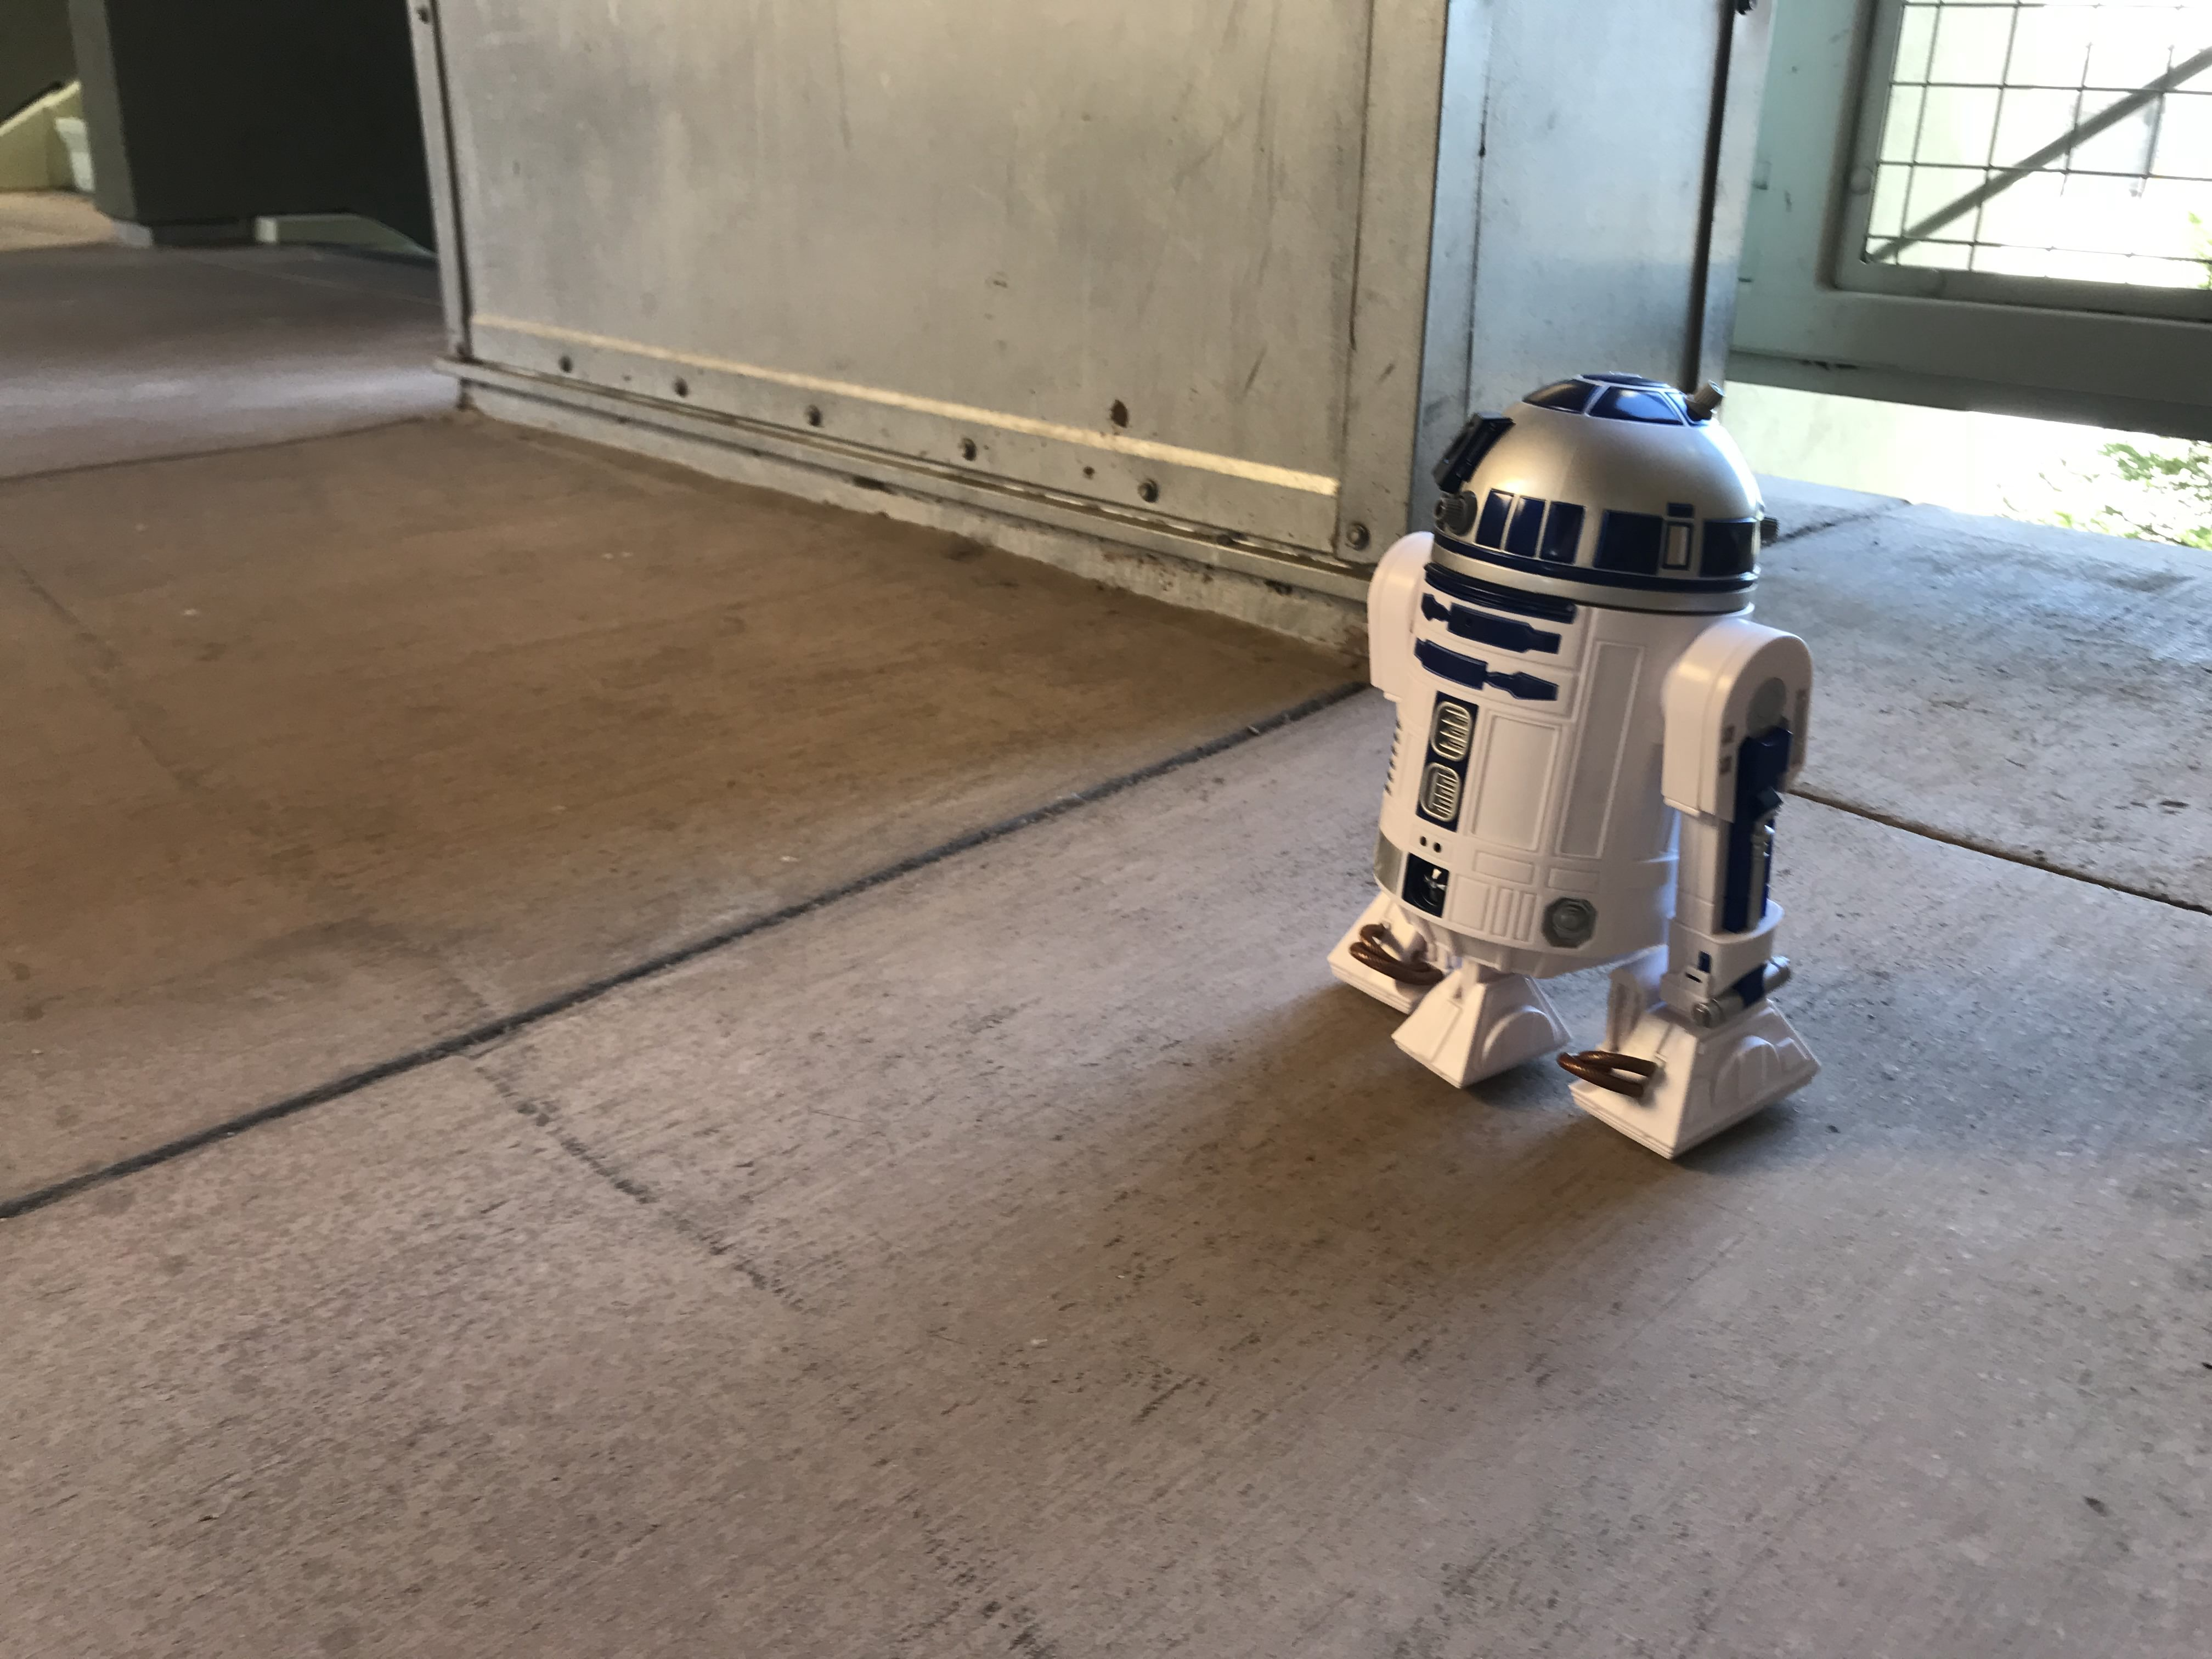r2d2: (1329, 375, 1822, 1161)
